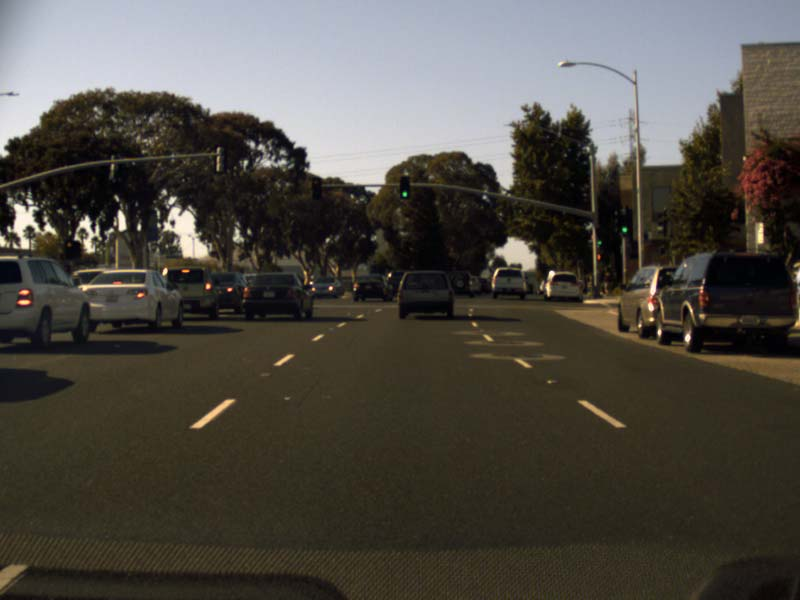Green: (618, 211, 630, 234), (399, 176, 409, 198), (597, 229, 602, 245)
Red: (311, 177, 321, 199)
